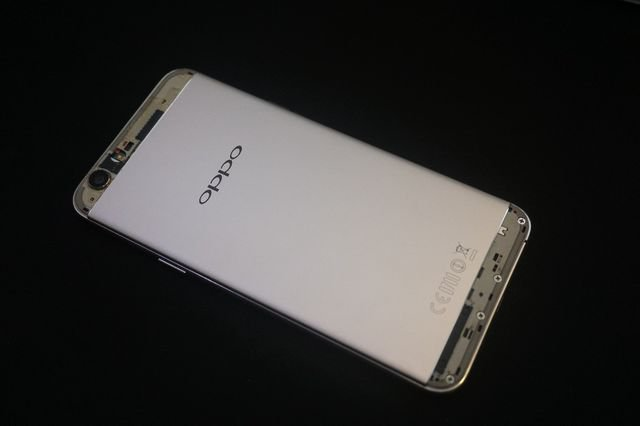phone: (68, 66, 537, 401)
